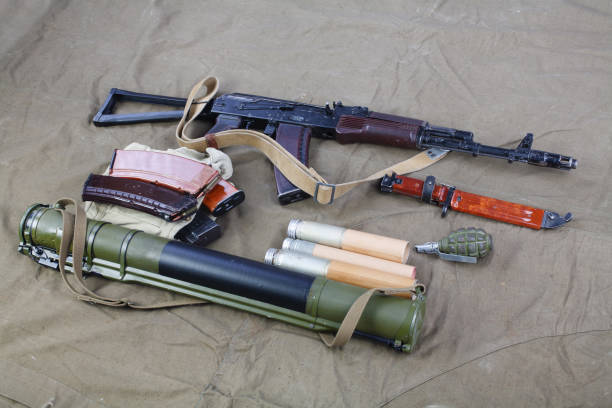e1: (414, 227, 495, 264)
